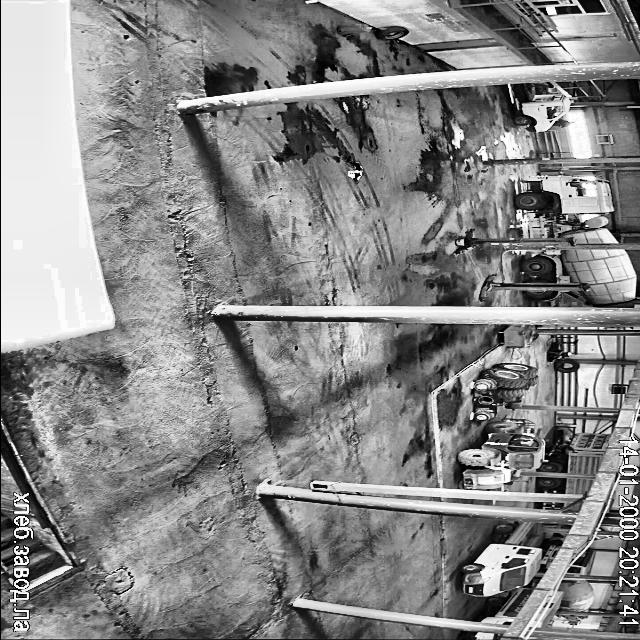car lift: (479, 274, 588, 300), (455, 229, 573, 253)
mechanic: (550, 119, 572, 128)
tractor: (459, 418, 544, 489), (474, 362, 537, 420)
truck: (516, 176, 616, 244), (522, 248, 636, 306), (460, 521, 540, 596), (539, 433, 611, 474), (510, 83, 570, 132), (484, 588, 532, 624), (558, 580, 594, 610), (538, 477, 592, 494), (538, 592, 562, 628), (540, 536, 563, 570), (566, 548, 595, 574), (466, 632, 500, 640), (543, 500, 563, 508), (564, 616, 587, 621), (570, 504, 580, 510), (566, 504, 566, 506)
